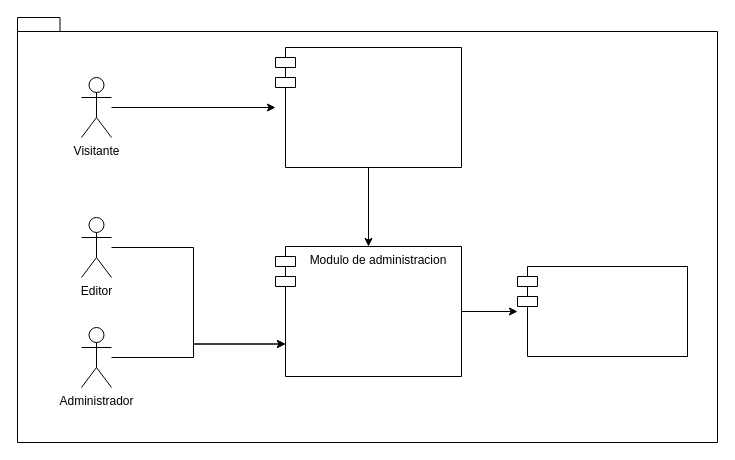
Some shapes in this 735 by 460 pixel diagram are drawn without their labels. Each missing label, with the box of its shape:
Modulo de contenido: (274, 46, 462, 168)
Modulo Plugins: (516, 266, 688, 356)
